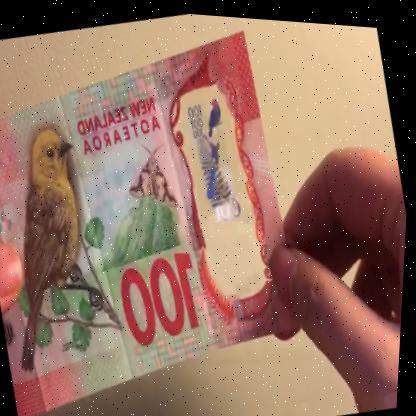100B: (175, 81, 262, 270)
